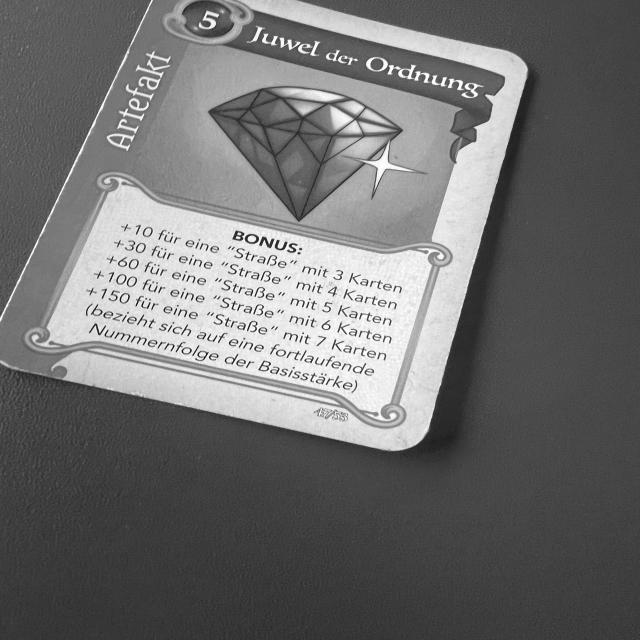Gem Of Order: (0, 0, 534, 458)
